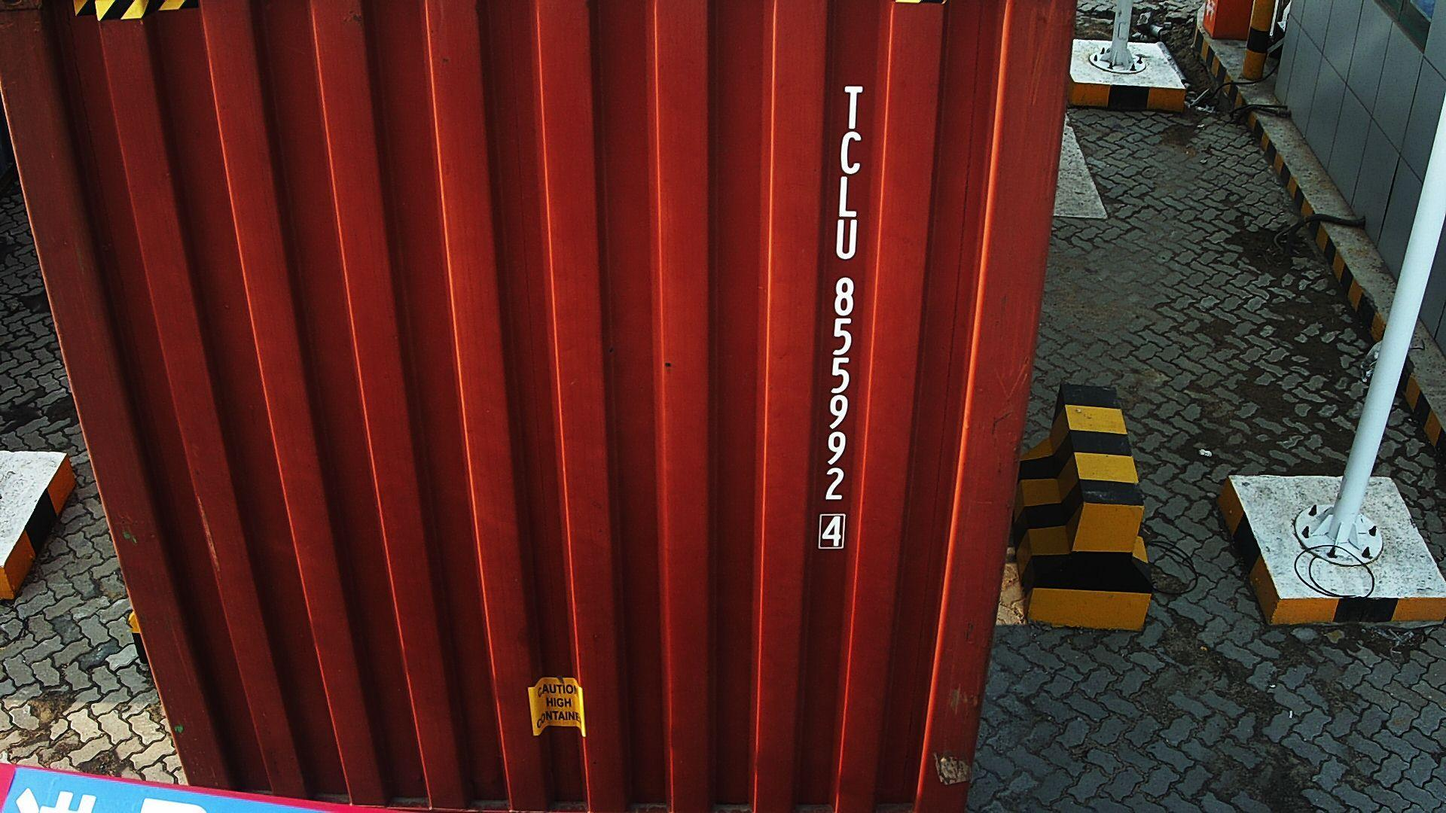container-numbers: (808, 82, 870, 557)
